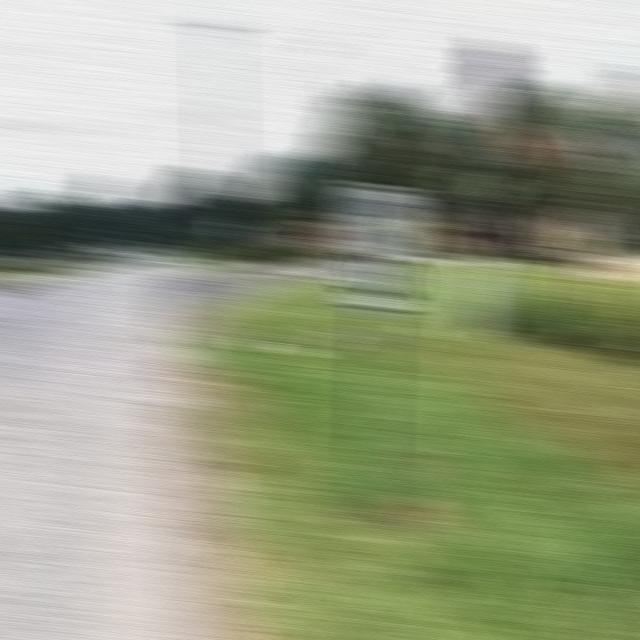speedLimit30: (339, 177, 416, 310)
